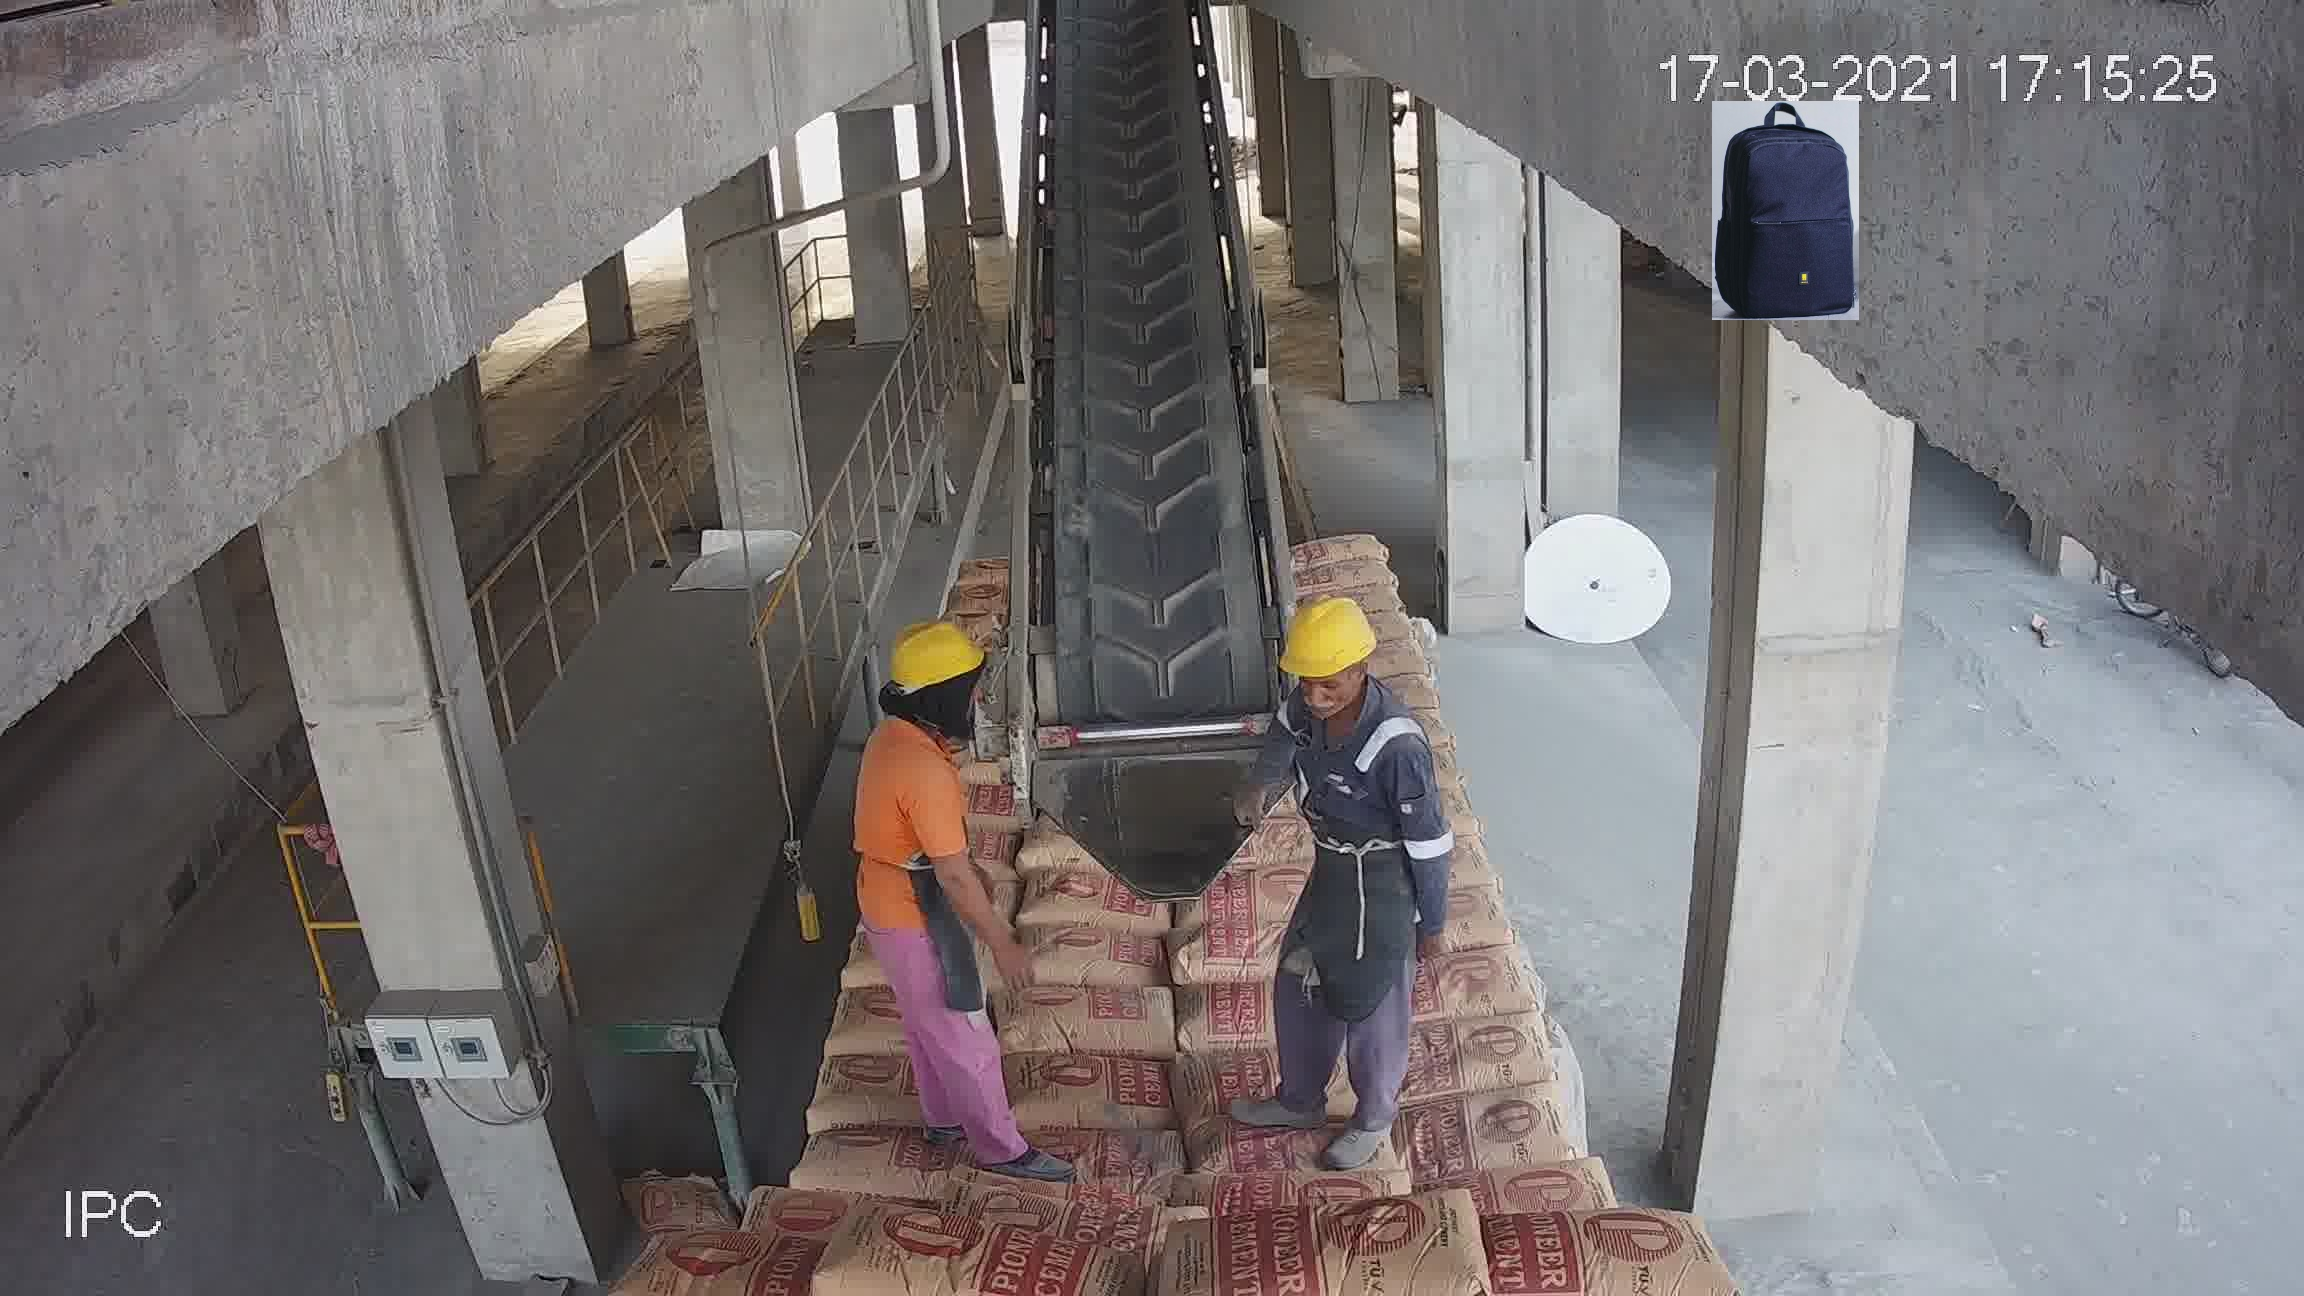bag_h: (820, 1225, 1105, 1294), (1385, 1014, 1575, 1112), (995, 1044, 1176, 1143), (623, 1220, 832, 1290), (972, 1143, 1182, 1209), (999, 984, 1177, 1060), (786, 1131, 965, 1201), (1185, 1117, 1404, 1169), (1405, 948, 1549, 1025), (1011, 926, 1169, 995), (1416, 1157, 1617, 1204), (810, 1055, 932, 1131), (1016, 883, 1173, 938), (1171, 870, 1291, 942), (1160, 984, 1268, 1060), (1176, 987, 1283, 1052), (1426, 889, 1524, 959), (821, 995, 911, 1059), (1177, 923, 1283, 975), (1293, 554, 1397, 597), (1305, 532, 1393, 578)
belt: (1003, 66, 1279, 813)
